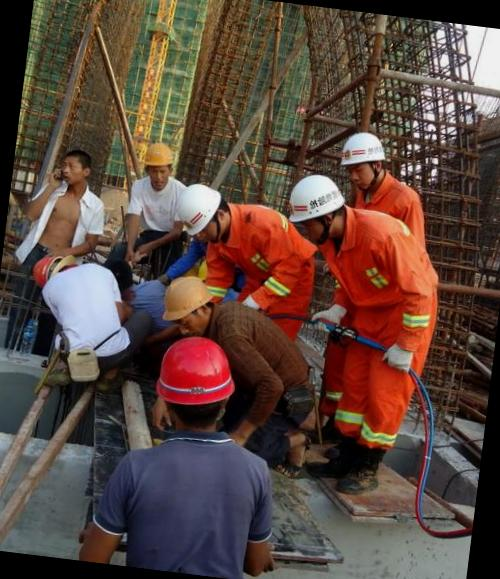no_helmet: (57, 147, 97, 191)
